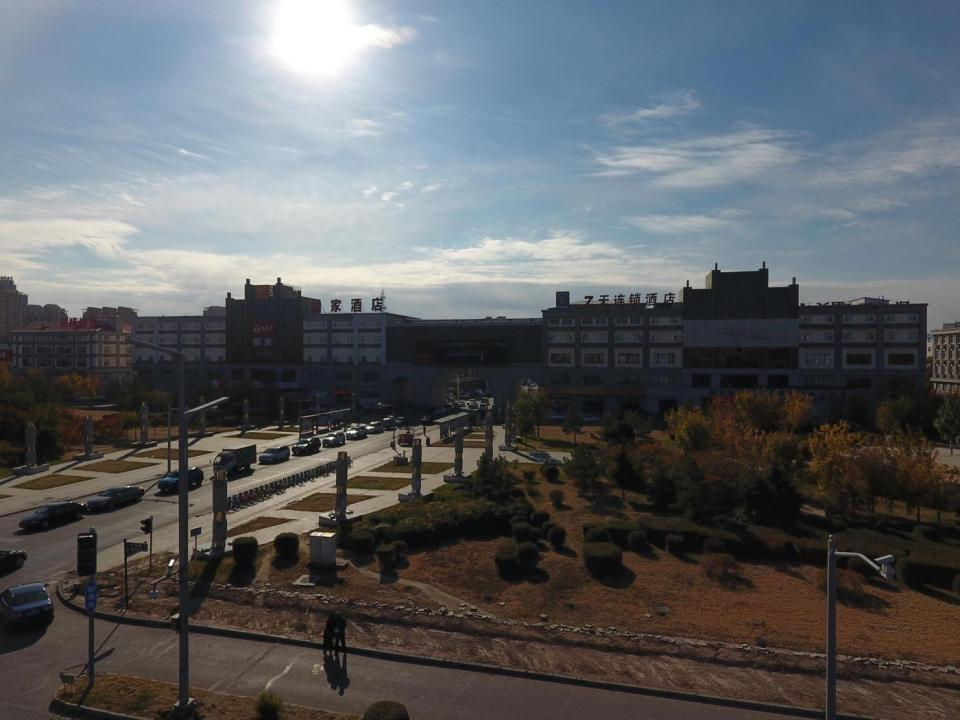car: (0, 580, 53, 628), (18, 500, 88, 530), (86, 486, 145, 510), (158, 468, 204, 493), (259, 445, 290, 464), (292, 438, 321, 454), (322, 432, 345, 446), (346, 426, 367, 439), (76, 392, 106, 401), (544, 411, 566, 422), (366, 422, 383, 433), (578, 414, 600, 422), (308, 406, 329, 413), (249, 404, 267, 412), (394, 417, 410, 426), (330, 407, 350, 414), (435, 407, 446, 415), (468, 402, 478, 410), (444, 404, 455, 411), (421, 417, 435, 422), (479, 403, 489, 410), (450, 402, 461, 408), (455, 400, 466, 406), (604, 411, 612, 419), (466, 399, 476, 405), (444, 396, 454, 402), (482, 393, 494, 398), (365, 404, 375, 409), (375, 404, 385, 409), (532, 382, 536, 385)
truck: (213, 443, 257, 474), (382, 417, 399, 429), (460, 392, 471, 399)
van: (440, 394, 454, 401), (530, 388, 539, 395), (481, 397, 489, 404)
